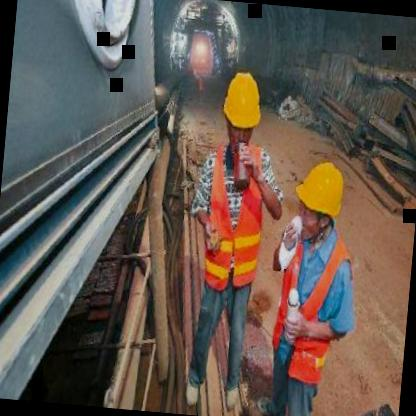helmet: (290, 154, 349, 240), (219, 64, 267, 152)
